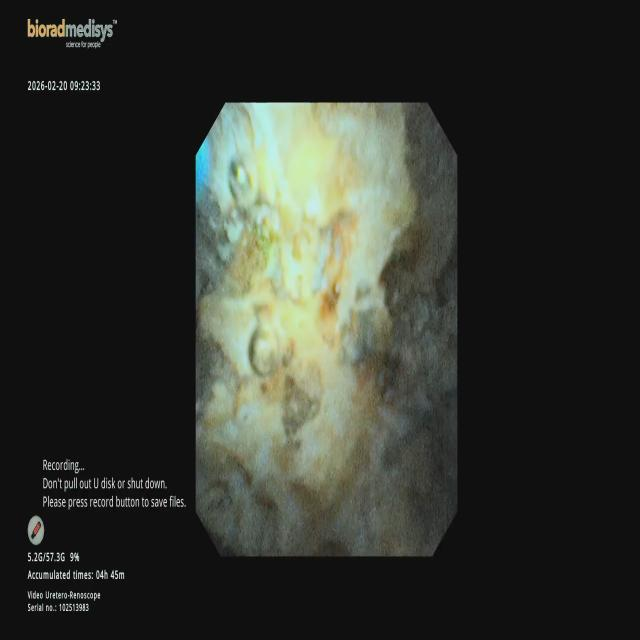stone-new: (196, 103, 457, 555)
